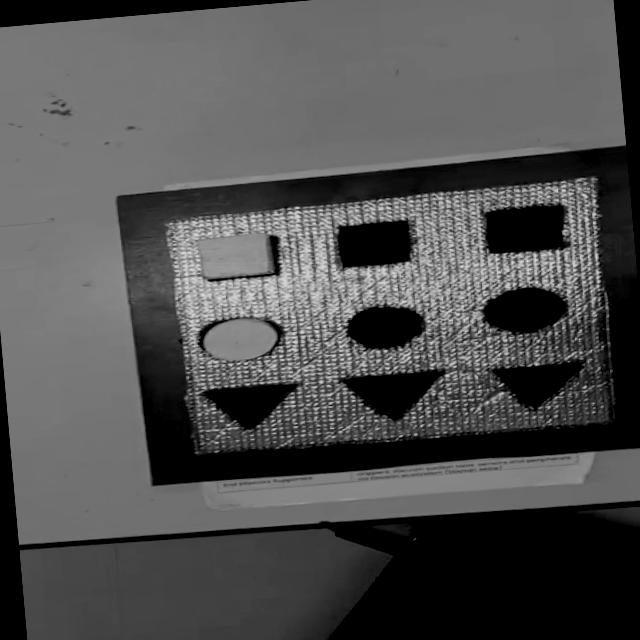mtcircle: (478, 282, 574, 337), (341, 300, 431, 354)
mtcube: (480, 202, 570, 258), (333, 218, 416, 270)
mttriangle: (336, 368, 454, 427), (198, 381, 302, 435), (489, 358, 589, 414)
wb: (156, 174, 622, 463)
ycircle: (196, 313, 284, 367)
ycube: (194, 230, 278, 282)
